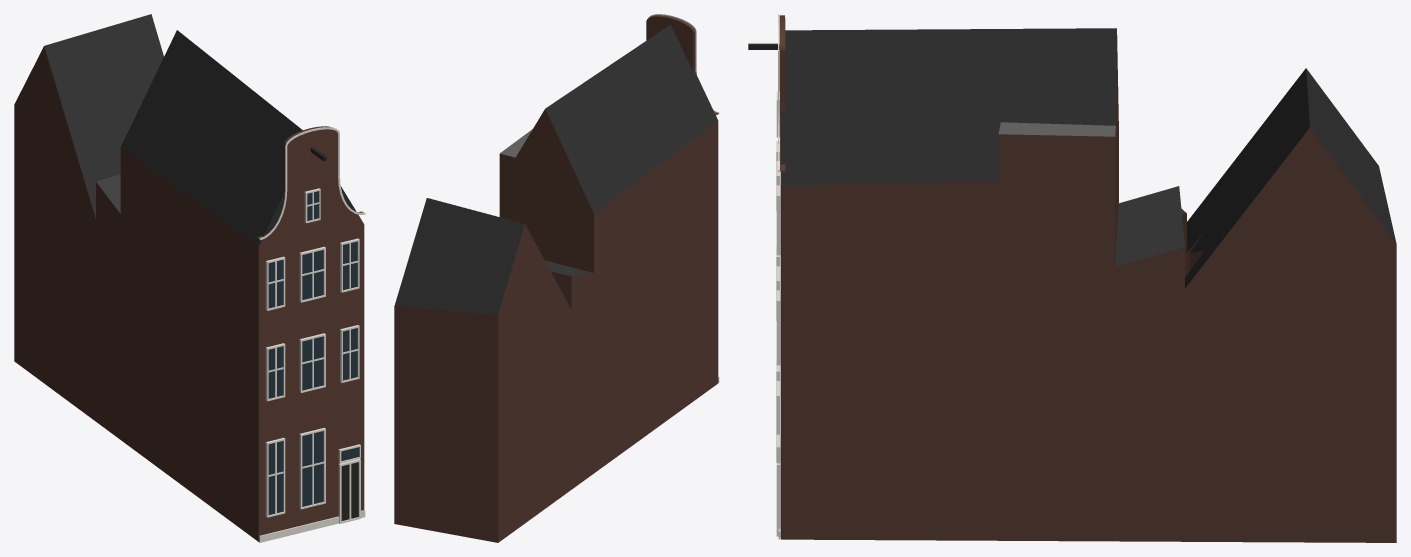
3 views of the same model, side by side, from view 1: azimuth 30°, elevation 25°; view 2: azimuth 150°, elevation 25°; view 3: azimuth 270°, elevation 25° (orthographic). The views are drawn at different scales.
Parts seen in each view (by area): view 1: spec-0363100012571679; view 2: spec-0363100012571679; view 3: spec-0363100012571679.
Boxes of the visible parts, x1,y1,x2,y2 form: spec-0363100012571679: [14, 14, 365, 542]; spec-0363100012571679: [394, 14, 719, 542]; spec-0363100012571679: [748, 14, 1396, 542].
Bounding box in the file's own units: 5.33 × 18.31 × 22.11.
